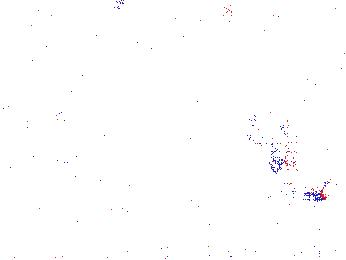flame jellyfish: (65, 171, 150, 229), (244, 104, 295, 175), (268, 163, 332, 211)
